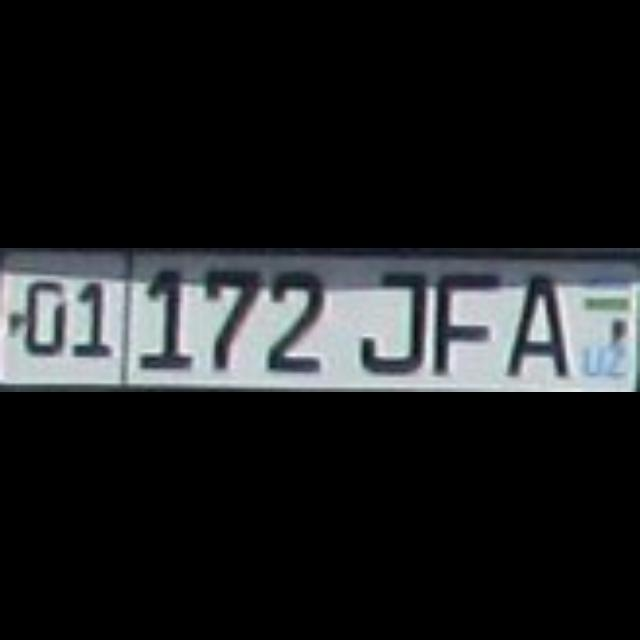0: (20, 275, 58, 353)
1: (132, 264, 188, 364), (62, 275, 106, 353)
2: (262, 264, 321, 368)
7: (198, 264, 254, 364)
A: (500, 272, 562, 376)
F: (425, 268, 495, 372)
J: (355, 268, 421, 372)
